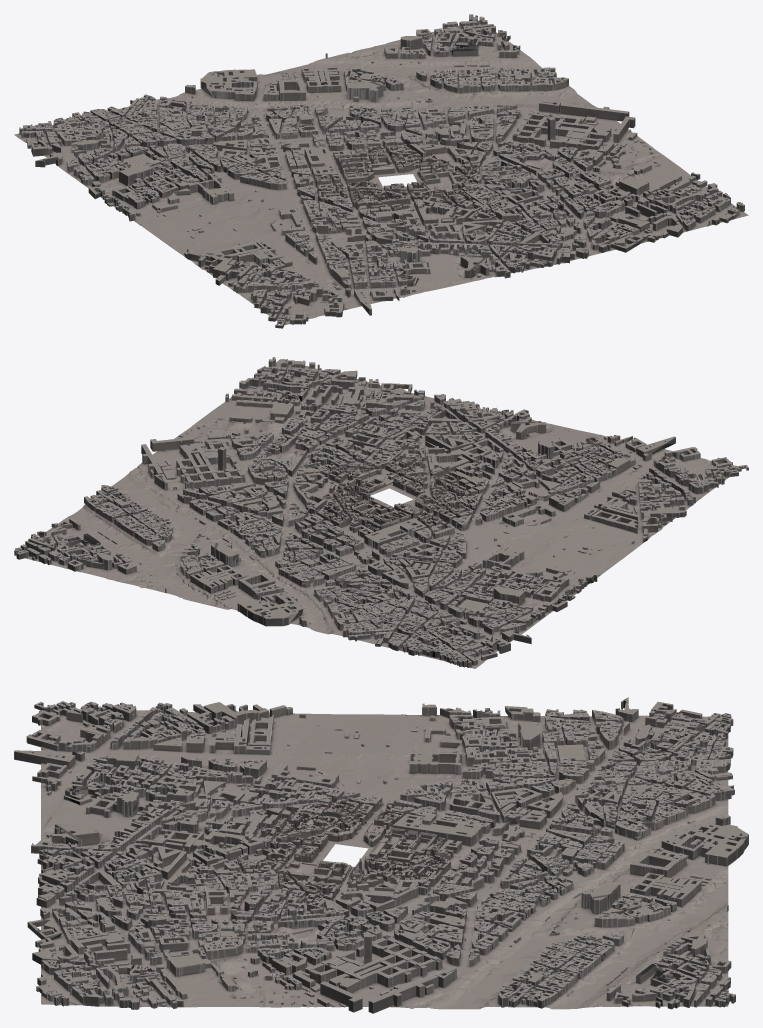
Rendered from paris.glb.
3 renders of one model, top to bottom at view 1: azimuth 30°, elevation 25°; view 2: azimuth 150°, elevation 25°; view 3: azimuth 270°, elevation 25°, orthographic. The views are drawn at different scales.
Visible parts, largest first — view 1: BATIMENT0000000241931889_1071.107, sol.003, BATIMENT0000000241931889_1071; view 2: BATIMENT0000000241931889_1071.107, sol.003, BATIMENT0000000241931889_1071; view 3: BATIMENT0000000241931889_1071.107, sol.003, BATIMENT0000000241931889_1071.
Part boxes in pixels (bbox=[...]): BATIMENT0000000241931889_1071.107: bbox=[19, 14, 744, 328]; sol.003: bbox=[14, 20, 748, 325]; BATIMENT0000000241931889_1071: bbox=[314, 144, 479, 211]; BATIMENT0000000241931889_1071.107: bbox=[14, 357, 748, 667]; sol.003: bbox=[14, 359, 728, 668]; BATIMENT0000000241931889_1071: bbox=[316, 457, 473, 531]; BATIMENT0000000241931889_1071.107: bbox=[14, 697, 748, 1013]; sol.003: bbox=[41, 710, 728, 1009]; BATIMENT0000000241931889_1071: bbox=[237, 798, 450, 900].
Bounding box in the file's own units: 2120 × 103 × 2138.
1 material, 1 textured.
